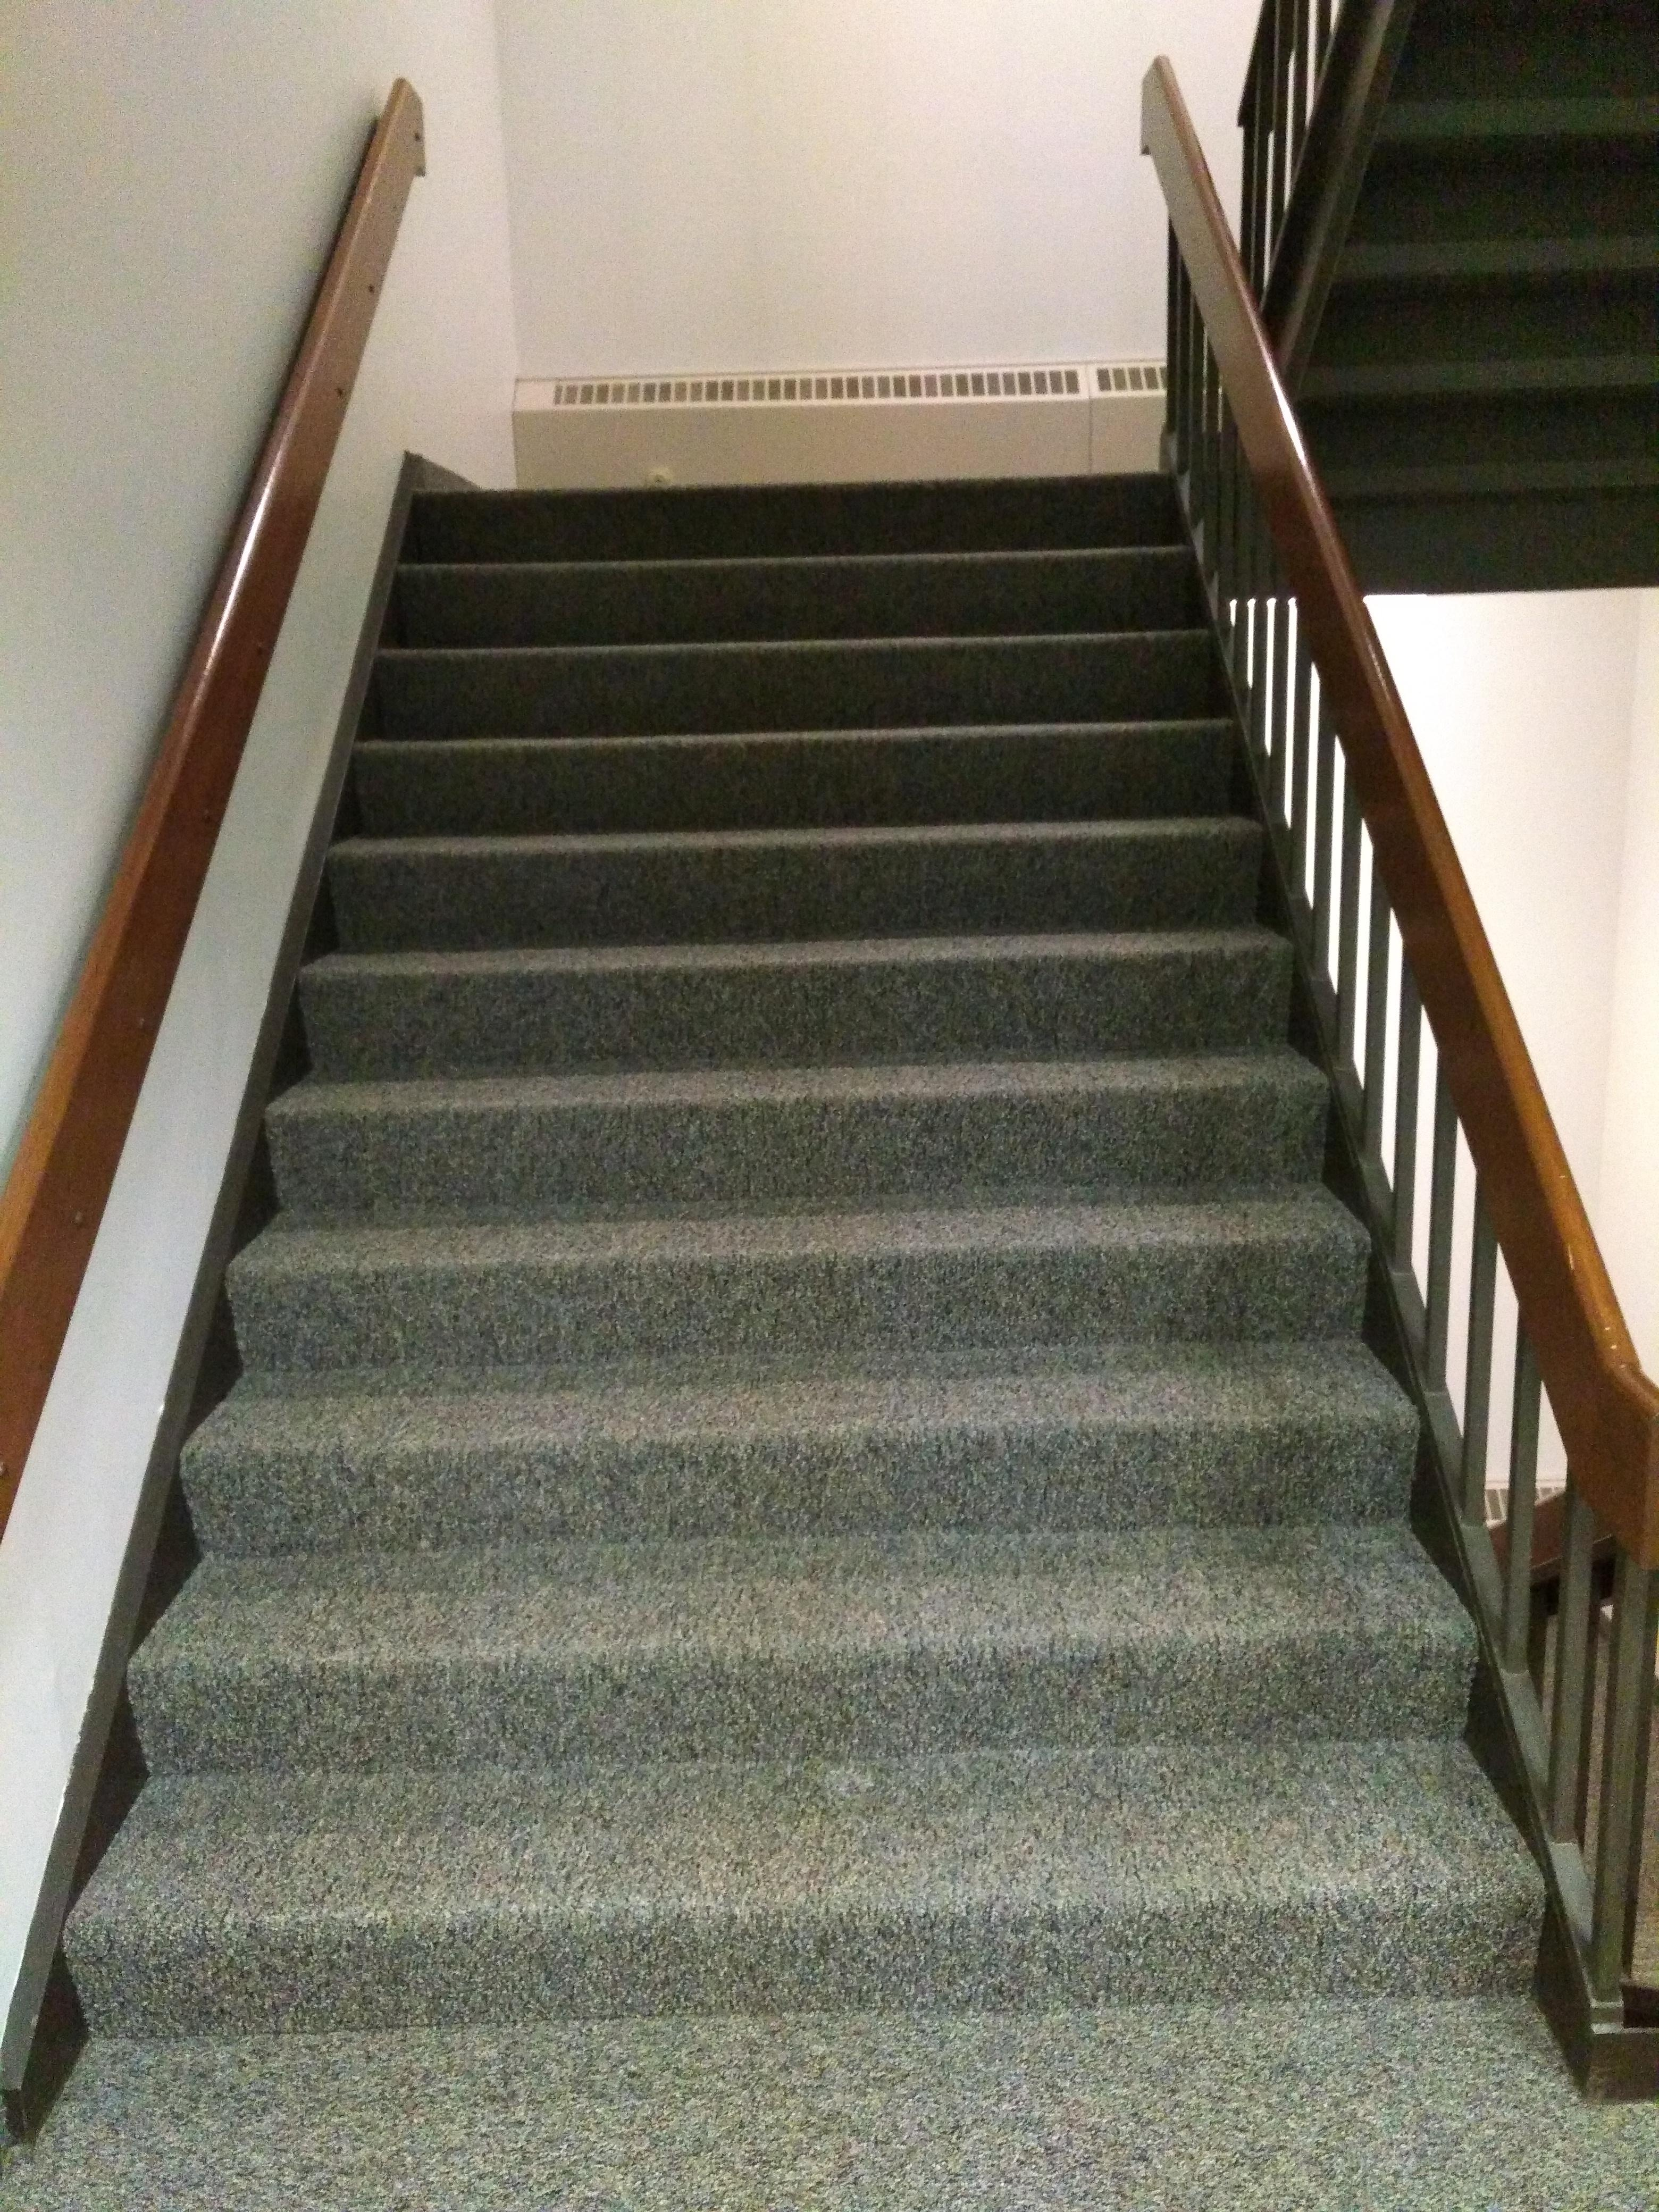stairs_up: (44, 460, 1554, 2033)
